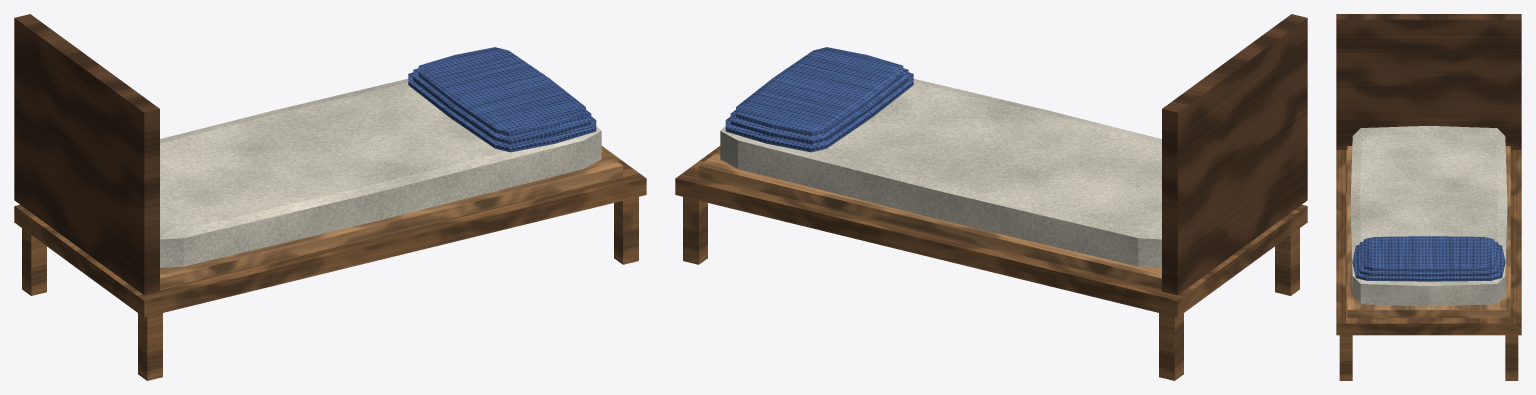
File: cot.fbx
3 views of the same model, side by side, from view 1: azimuth 30°, elevation 25°; view 2: azimuth 150°, elevation 25°; view 3: azimuth 270°, elevation 25° (orthographic). The views are drawn at different scales.
Parts seen in each view (by area): view 1: cot; view 2: cot; view 3: cot.
Boxes of the visible parts, <box> form: cot: <box>14,14,646,380</box>; cot: <box>675,14,1307,380</box>; cot: <box>1336,14,1521,380</box>.
Bounding box in the file's own units: 190 × 98 × 85.
